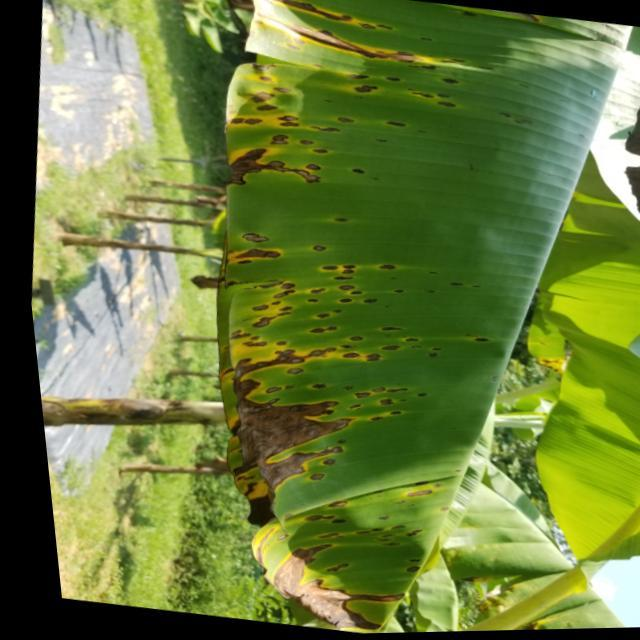Early_rust: (165, 0, 533, 620)
